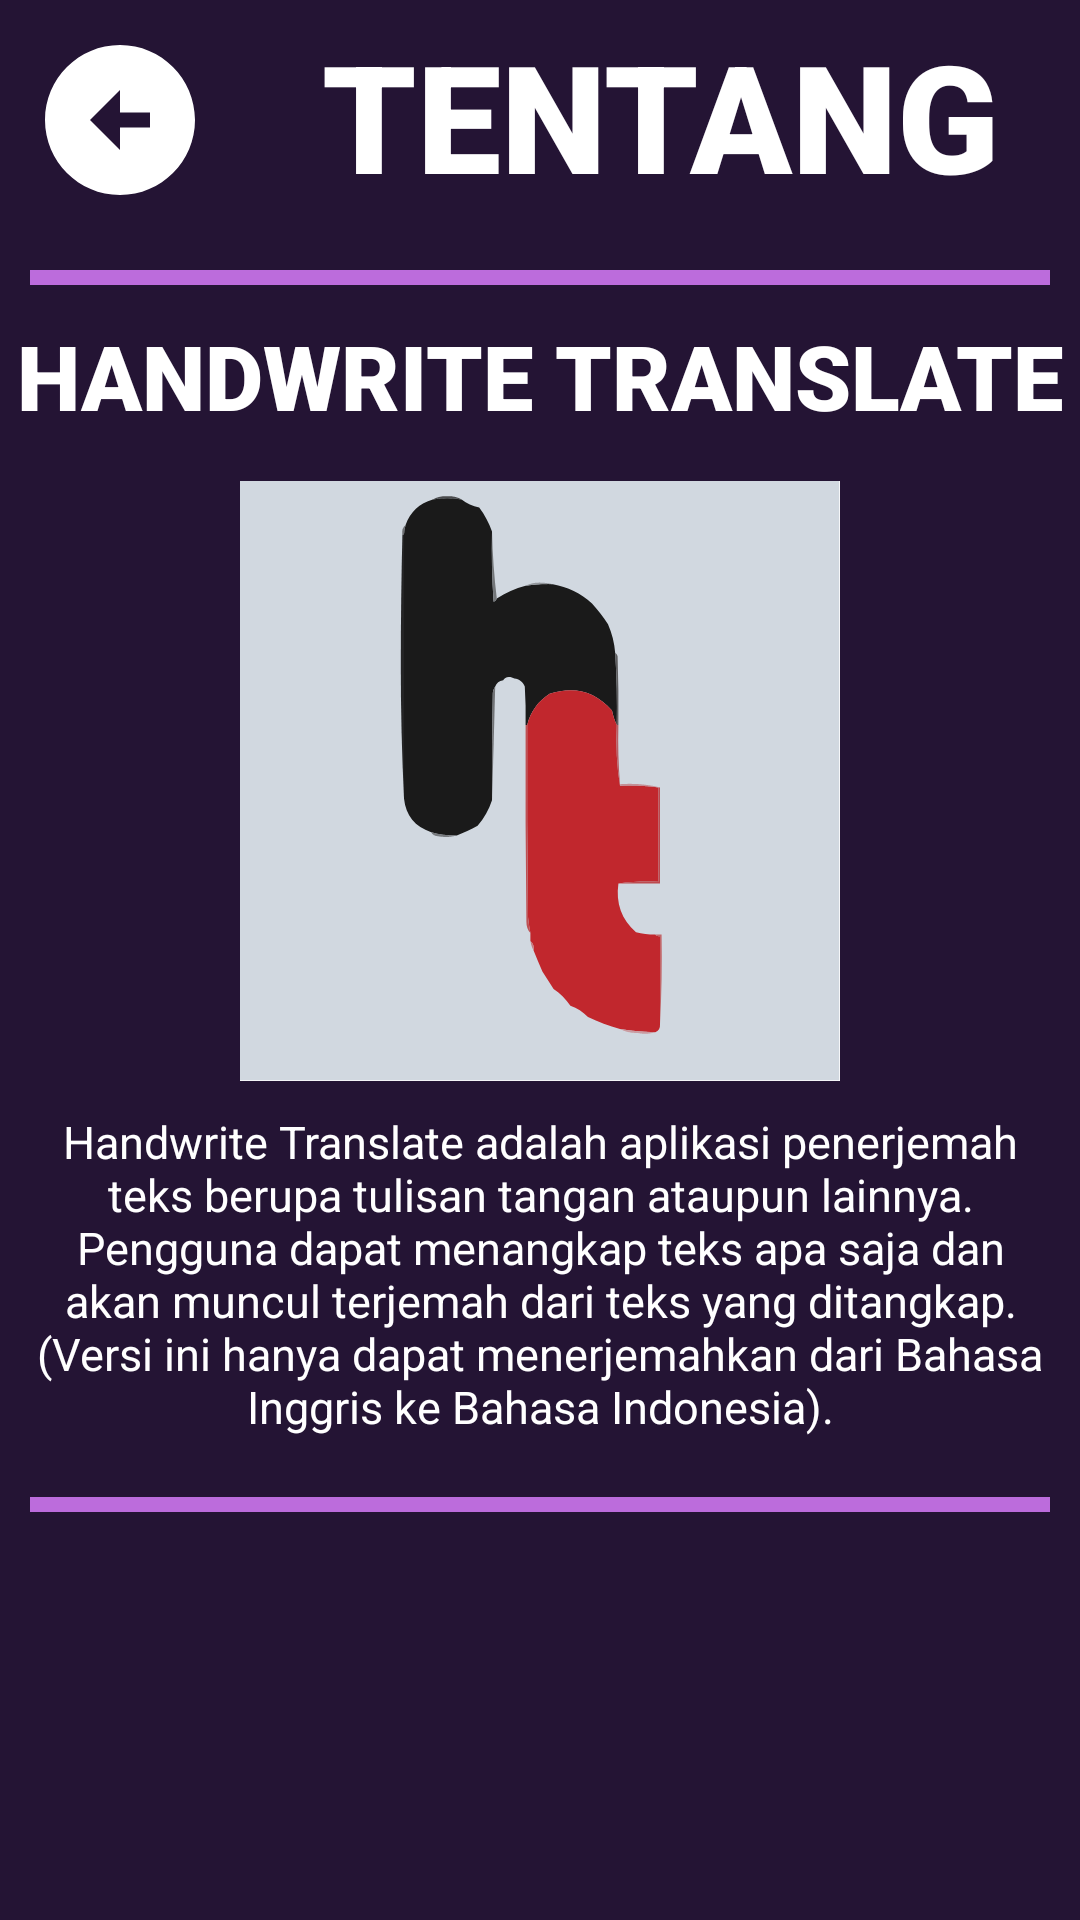

Named icons in this screenshot (1080 x 1920) and their bounding boxes, (x1, y1, x2, y2):
back: (45, 45, 195, 195)
